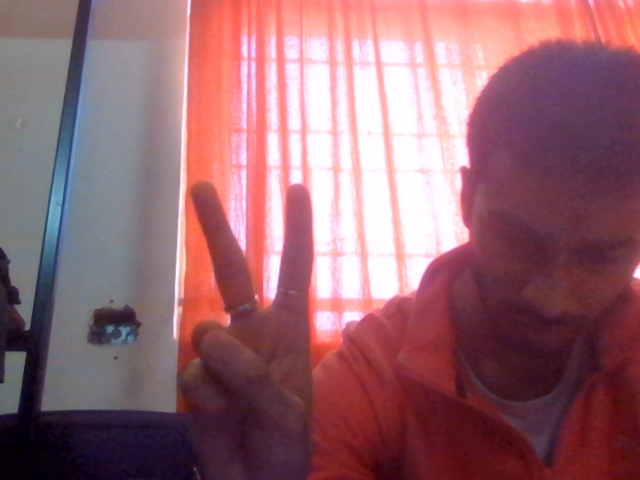V: (137, 158, 361, 466)
